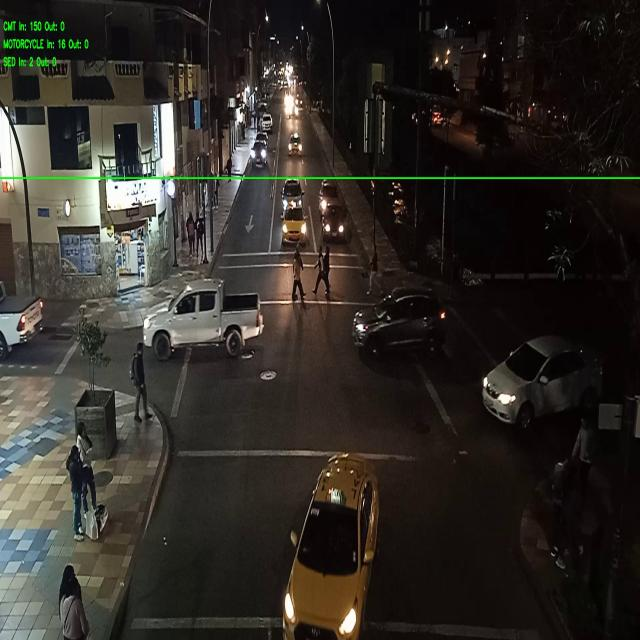CMT: (146, 282, 261, 355), (0, 274, 40, 354)
SED: (484, 346, 561, 420), (284, 210, 306, 247)
SUV: (354, 290, 436, 350)
